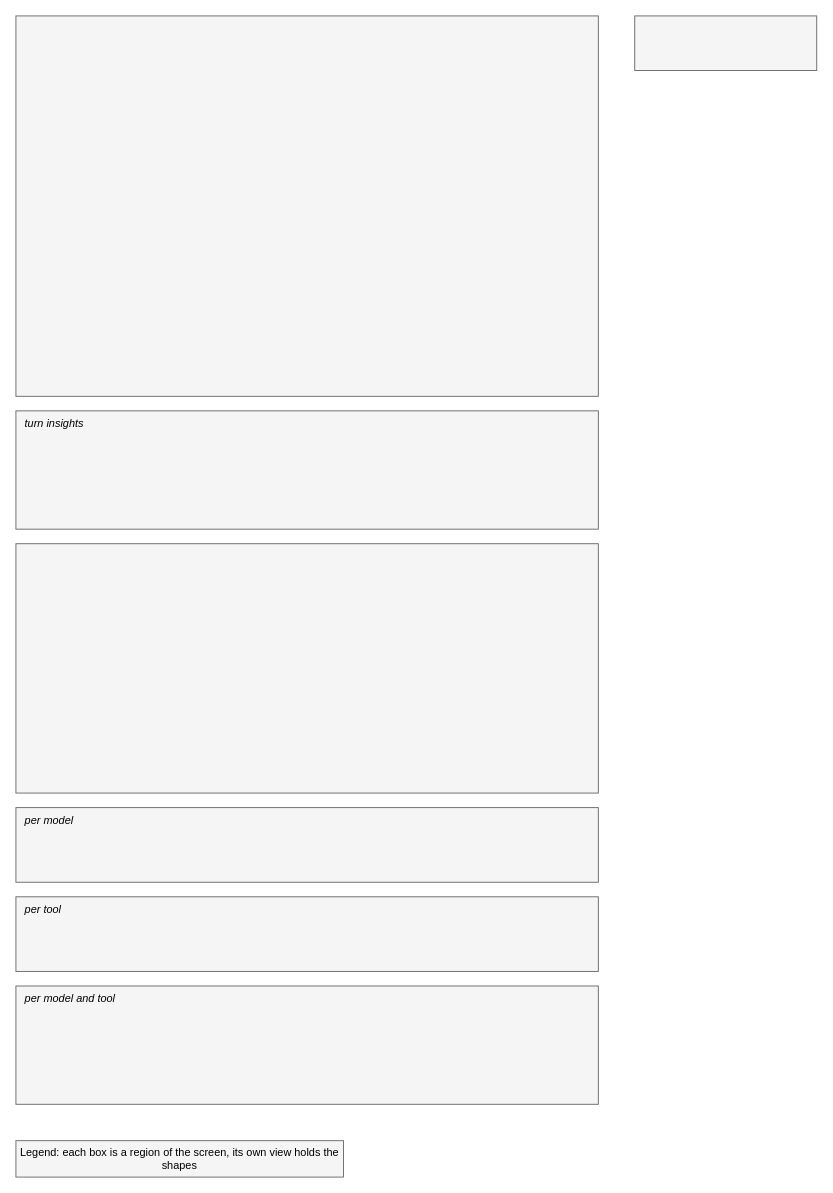
The diagram is 833 pixels wide and 1193 high, and some of its shapes have lost their labels. The centre of each missing label's shape, as x and y in pixels:
"Other" goes at point (725, 43).
"per turn" goes at point (306, 668).
"totals" goes at point (306, 205).
